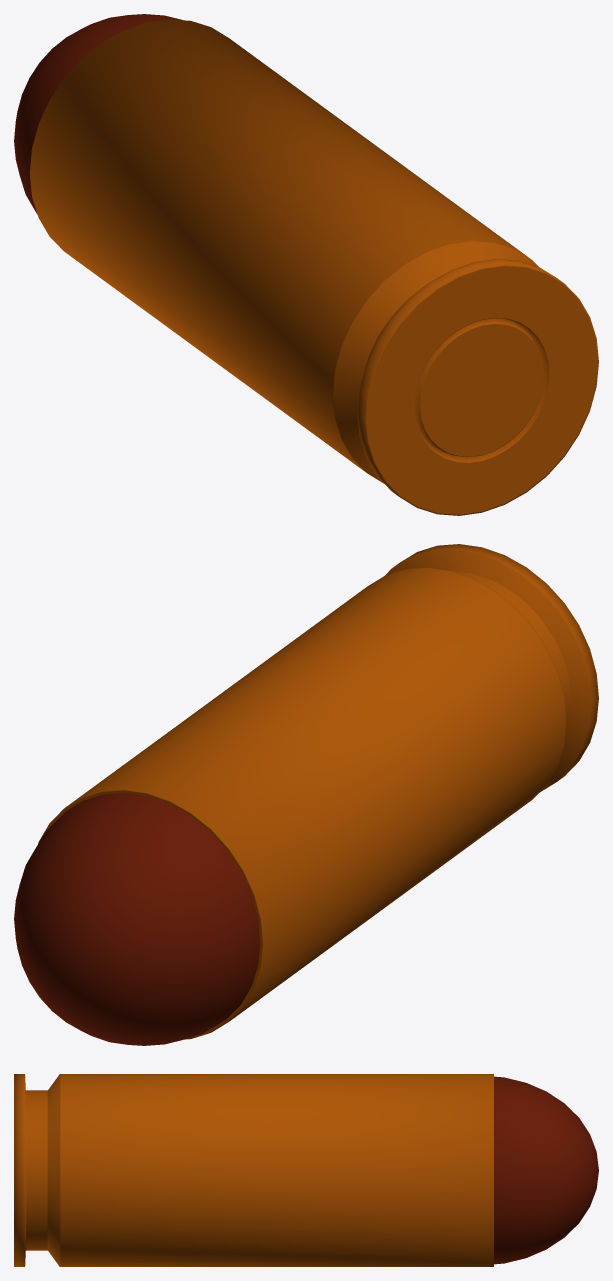
File: bullPistol.fbx
The picture shows the model from 3 angles, top to bottom: view 1: azimuth 30°, elevation 25°; view 2: azimuth 150°, elevation 25°; view 3: azimuth 270°, elevation 25°; orthographic projection. The views are drawn at different scales.
Parts seen in each view (by area): view 1: Cylinder, Sphere; view 2: Cylinder, Sphere; view 3: Cylinder, Sphere.
Boxes of the visible parts, left/top/right/bottom form: Cylinder: left=29, top=19, right=598, bottom=515; Sphere: left=14, top=14, right=182, bottom=214; Cylinder: left=38, top=544, right=598, bottom=1039; Sphere: left=14, top=793, right=260, bottom=1045; Cylinder: left=14, top=1074, right=493, bottom=1266; Sphere: left=494, top=1076, right=598, bottom=1264.
Size of the model in its own units: 8.14 by 8.14 by 24.66.
